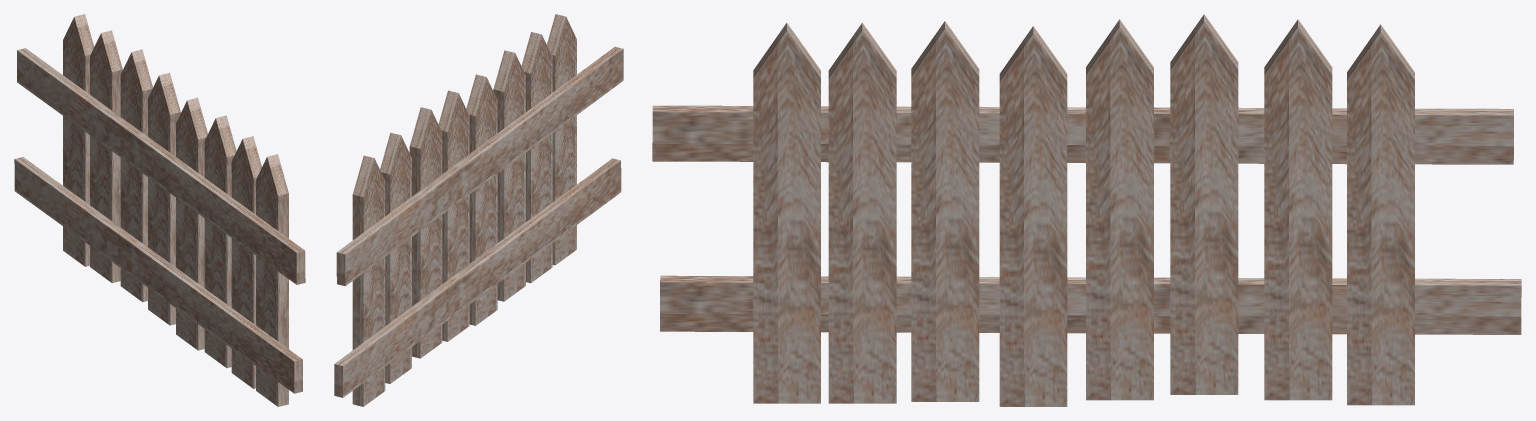
The model's file is fence.fbx.
3 views of the same model, side by side, from view 1: azimuth 30°, elevation 25°; view 2: azimuth 150°, elevation 25°; view 3: azimuth 270°, elevation 25° (orthographic). The views are drawn at different scales.
Visible parts, largest first — view 1: Cube.011, Cube.010, Cube.001, Cube.008, Cube.004, Cube.006, Cube.007, Cube.003, Cube.009, Cube.002; view 2: Cube.010, Cube.011, Cube.009, Cube.007, Cube.003, Cube.004, Cube.006, Cube.008, Cube.002, Cube.001; view 3: Cube.008, Cube.002, Cube.003, Cube.004, Cube.007, Cube.006, Cube.009, Cube.001, Cube.010, Cube.011.
Part boxes in pixels (x1=…): Cube.011: x1=14, y1=157, x2=302, y2=393; Cube.010: x1=17, y1=48, x2=305, y2=284; Cube.001: x1=256, y1=154, x2=288, y2=406; Cube.008: x1=90, y1=30, x2=122, y2=282; Cube.004: x1=176, y1=97, x2=207, y2=350; Cube.006: x1=148, y1=73, x2=180, y2=325; Cube.007: x1=120, y1=49, x2=152, y2=302; Cube.003: x1=204, y1=115, x2=236, y2=367; Cube.009: x1=63, y1=14, x2=94, y2=266; Cube.002: x1=231, y1=136, x2=261, y2=388; Cube.010: x1=336, y1=46, x2=623, y2=286; Cube.011: x1=334, y1=158, x2=621, y2=397; Cube.009: x1=352, y1=155, x2=385, y2=406; Cube.007: x1=409, y1=107, x2=442, y2=358; Cube.003: x1=493, y1=50, x2=525, y2=301; Cube.004: x1=466, y1=74, x2=497, y2=325; Cube.006: x1=438, y1=90, x2=469, y2=341; Cube.008: x1=380, y1=132, x2=411, y2=383; Cube.002: x1=521, y1=32, x2=552, y2=283; Cube.001: x1=547, y1=14, x2=576, y2=265; Cube.008: x1=1264, y1=19, x2=1332, y2=400; Cube.002: x1=828, y1=22, x2=896, y2=403; Cube.003: x1=911, y1=21, x2=979, y2=401; Cube.004: x1=999, y1=26, x2=1067, y2=406; Cube.007: x1=1170, y1=14, x2=1238, y2=394; Cube.006: x1=1086, y1=19, x2=1153, y2=400; Cube.009: x1=1347, y1=24, x2=1414, y2=405; Cube.001: x1=753, y1=23, x2=820, y2=403; Cube.010: x1=652, y1=105, x2=1513, y2=164; Cube.011: x1=660, y1=275, x2=1521, y2=334.
Bounding box in the file's own units: 76.19 × 731 × 1497.
